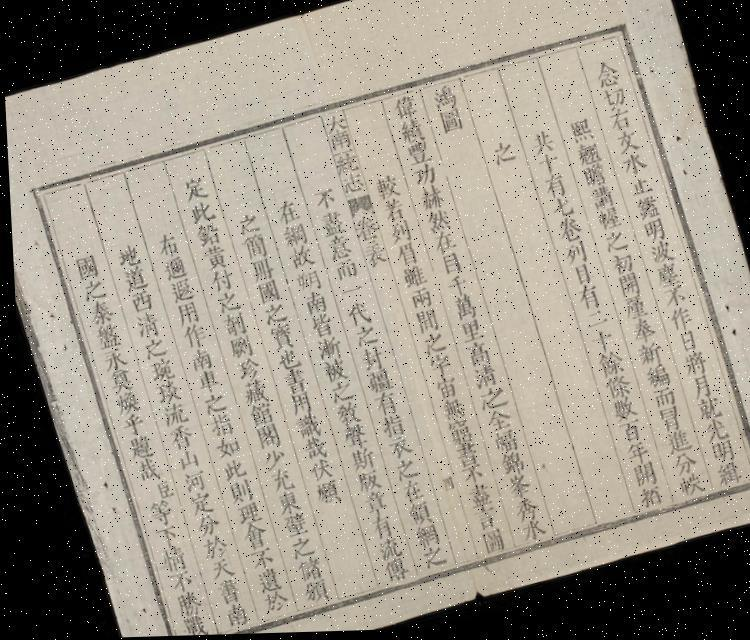c: (358, 510, 393, 544), (588, 60, 622, 94), (138, 496, 172, 530), (437, 417, 472, 449), (176, 172, 209, 205), (550, 215, 583, 248), (412, 183, 445, 216), (590, 350, 624, 382), (151, 543, 185, 575), (232, 520, 266, 552), (165, 588, 199, 620), (470, 386, 506, 416), (128, 309, 160, 342), (306, 478, 339, 510), (196, 242, 229, 274), (81, 296, 114, 328), (88, 320, 121, 352), (126, 454, 160, 485), (496, 472, 530, 503), (174, 321, 208, 352), (218, 477, 252, 508), (339, 445, 373, 476), (464, 363, 498, 394), (426, 84, 460, 115), (655, 429, 690, 459), (445, 294, 477, 326), (352, 344, 384, 376), (338, 298, 370, 330), (629, 194, 661, 226), (262, 322, 294, 354), (206, 576, 238, 608), (314, 208, 346, 240), (246, 422, 279, 453), (160, 422, 193, 453), (369, 172, 400, 205), (694, 418, 728, 448), (352, 488, 386, 518), (706, 462, 740, 492), (603, 396, 637, 426), (444, 442, 478, 472), (596, 374, 630, 404), (326, 400, 360, 430), (582, 186, 616, 216), (266, 488, 300, 518), (286, 555, 320, 585), (372, 556, 406, 586), (636, 364, 670, 394), (286, 412, 320, 442), (358, 367, 392, 397), (274, 367, 306, 398), (471, 528, 503, 559), (388, 93, 420, 124), (116, 263, 148, 294), (120, 432, 152, 463), (458, 340, 490, 371), (106, 388, 139, 418), (463, 505, 496, 535), (483, 429, 516, 459), (622, 318, 655, 348), (314, 356, 347, 386), (191, 532, 224, 562), (153, 400, 186, 430), (234, 378, 267, 408), (457, 482, 490, 512), (245, 566, 278, 596), (333, 422, 366, 452), (641, 240, 674, 270), (260, 466, 293, 496), (189, 220, 222, 250), (200, 411, 233, 441), (570, 142, 603, 172), (394, 118, 427, 148), (668, 473, 702, 502), (366, 536, 400, 565), (146, 378, 180, 407), (272, 512, 306, 541), (634, 219, 668, 248), (476, 408, 511, 436), (237, 232, 268, 263), (650, 407, 682, 437), (661, 306, 693, 336), (622, 462, 654, 492), (209, 288, 241, 318), (101, 366, 133, 396), (648, 262, 680, 292), (609, 130, 641, 160), (141, 355, 173, 385), (214, 310, 246, 340), (162, 276, 194, 306), (280, 389, 312, 419), (366, 390, 398, 420), (398, 500, 430, 530), (405, 522, 437, 552), (179, 488, 211, 518), (674, 352, 706, 382), (411, 544, 443, 574), (372, 412, 404, 442), (420, 208, 452, 238), (276, 222, 308, 252), (282, 244, 314, 274), (420, 352, 453, 381), (432, 397, 465, 426), (629, 342, 662, 371), (576, 164, 609, 193), (293, 434, 326, 463), (227, 355, 260, 384), (292, 578, 326, 606), (537, 174, 568, 204), (487, 140, 518, 170), (385, 456, 416, 486), (524, 130, 555, 160), (407, 308, 438, 338), (296, 289, 327, 319), (68, 251, 98, 282), (564, 118, 595, 148), (321, 234, 352, 264), (610, 420, 642, 449), (145, 522, 177, 551), (663, 451, 695, 480), (602, 108, 634, 137), (504, 497, 536, 526), (221, 333, 253, 362), (202, 266, 234, 295), (400, 141, 432, 170), (434, 108, 466, 137), (490, 449, 522, 478), (451, 318, 483, 347), (616, 296, 648, 325), (300, 456, 332, 485), (596, 230, 628, 259), (279, 534, 312, 562), (288, 268, 321, 296), (252, 588, 285, 616), (682, 374, 712, 404), (570, 284, 600, 314), (149, 230, 179, 260), (270, 198, 300, 228), (427, 375, 458, 404), (186, 511, 217, 540), (303, 313, 334, 342), (241, 401, 272, 430), (700, 441, 732, 469), (159, 567, 191, 595), (199, 555, 231, 583), (378, 435, 410, 463), (168, 300, 200, 328), (207, 434, 239, 462), (308, 336, 340, 364), (616, 154, 648, 182), (183, 198, 215, 226), (226, 500, 258, 528), (347, 468, 379, 496), (414, 331, 446, 359), (426, 230, 458, 258), (95, 346, 127, 374), (590, 208, 622, 236), (306, 186, 338, 214), (584, 328, 614, 357), (182, 346, 212, 375), (598, 87, 629, 115), (557, 242, 588, 270), (689, 397, 720, 425), (76, 276, 107, 304), (122, 287, 153, 315), (402, 286, 433, 314), (243, 257, 274, 285), (406, 163, 437, 191), (110, 242, 141, 270), (156, 255, 187, 283), (214, 602, 245, 630), (392, 478, 423, 506), (322, 380, 353, 408), (630, 486, 661, 514), (188, 368, 219, 396), (604, 252, 635, 280), (391, 242, 420, 271), (644, 386, 674, 414), (610, 274, 640, 302), (230, 210, 260, 238), (214, 456, 244, 484), (250, 279, 280, 307), (396, 264, 426, 292), (616, 440, 646, 468), (656, 286, 686, 314), (174, 468, 204, 496), (376, 198, 406, 226), (254, 446, 285, 473), (113, 411, 144, 438), (510, 520, 542, 546), (240, 546, 272, 572), (171, 612, 205, 636), (168, 446, 197, 474), (433, 252, 462, 280), (346, 324, 376, 351), (195, 390, 225, 417), (348, 217, 378, 244), (328, 258, 358, 285), (670, 330, 698, 358), (384, 220, 412, 248), (533, 153, 562, 180), (439, 274, 469, 300), (256, 302, 286, 328), (270, 347, 300, 373), (136, 336, 166, 362), (330, 152, 359, 178), (545, 196, 574, 222), (578, 308, 606, 334), (453, 464, 483, 488), (624, 178, 654, 202), (333, 281, 364, 303), (566, 264, 592, 290), (337, 174, 363, 198), (322, 113, 348, 137), (325, 131, 351, 155), (360, 247, 386, 270), (431, 474, 452, 496), (148, 480, 170, 500), (358, 237, 379, 251)
